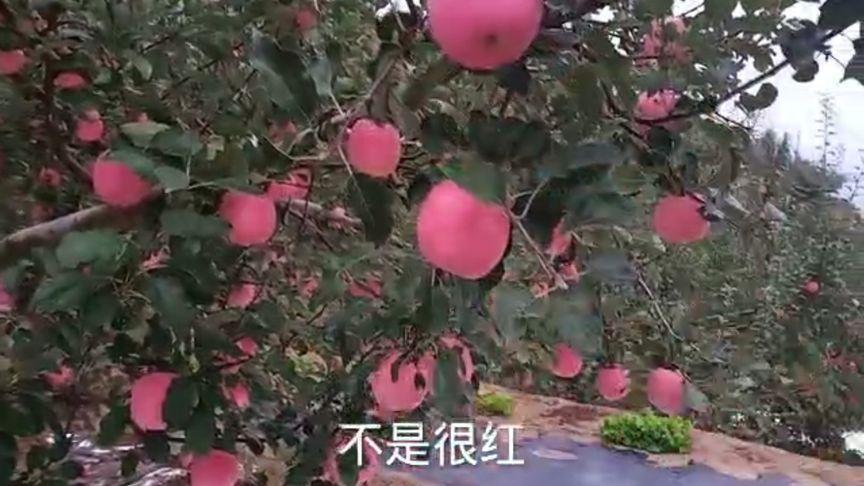apple: (418, 178, 511, 278), (425, 1, 544, 69), (217, 187, 278, 244), (345, 116, 400, 177)
